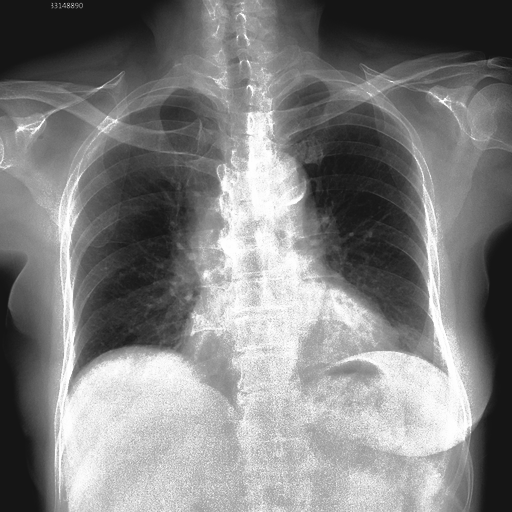Calcification: (118, 83, 175, 114), (324, 75, 373, 101)
Consolidation: (247, 151, 316, 213)
Lung Opacity: (285, 179, 309, 202)
Nodule/Mass: (175, 317, 396, 381)
